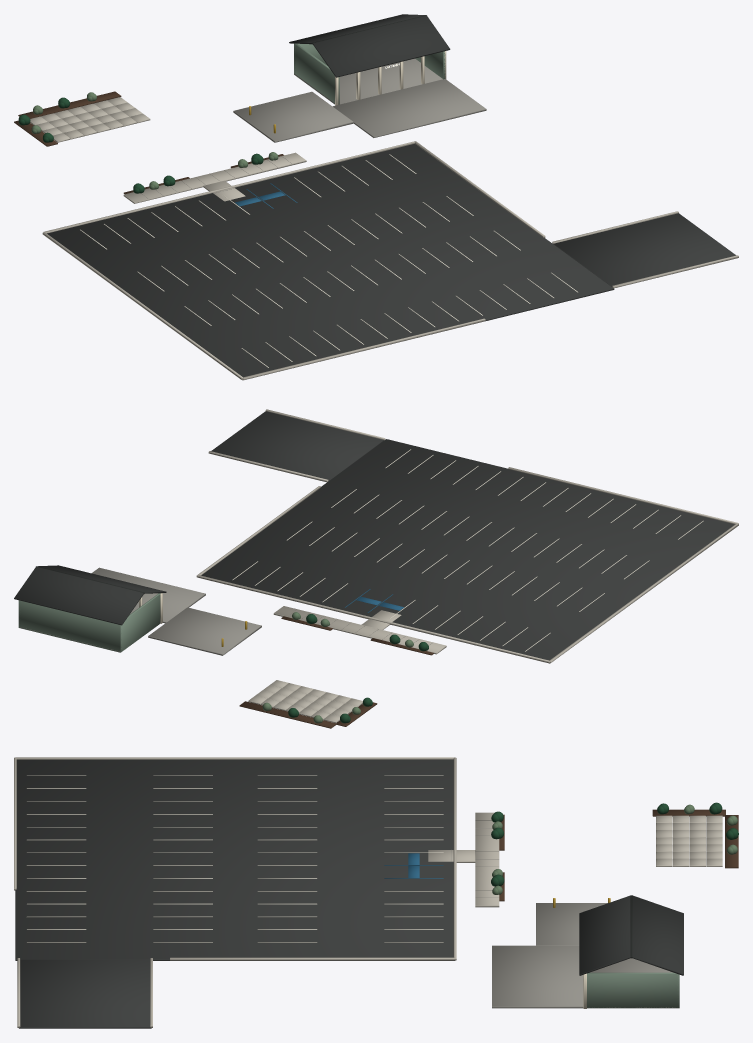
The model's file is modern_public_clubhouse_site_v1.glb.
3 views of the same model, one above another, from view 1: azimuth 30°, elevation 25°; view 2: azimuth 150°, elevation 25°; view 3: azimuth 270°, elevation 25° (orthographic). The views are drawn at different scales.
Parts seen in each view (by area): view 1: MESH_Parking_Asphalt, MESH_Parking_EntranceDrive_Asphalt, MESH_CartBarn_ApproachConcrete, MESH_CartBarn_RoofFront, MESH_Loading_Apron, MESH_CartBarn_Slab, MESH_Sidewalk_Frontage_Slab, MESH_CartBarn_W_Wall, MESH_Parking_CurbNorth, MESH_Parking_CurbWest, MESH_Parking_CurbSouthWest, MESH_CartBarn_RoofBack; view 2: MESH_Parking_Asphalt, MESH_Parking_EntranceDrive_Asphalt, MESH_CartBarn_RoofBack, MESH_Loading_Apron, MESH_CartBarn_BackWall, MESH_CartBarn_ApproachConcrete, MESH_Sidewalk_Frontage_Slab, MESH_CartBarn_W_Wall, MESH_Parking_CurbNorth, MESH_Parking_CurbWest, MESH_CartBarn_RoofFront, MESH_Parking_CurbSouthWest (+1 smaller); view 3: MESH_Parking_Asphalt, MESH_Parking_EntranceDrive_Asphalt, MESH_CartBarn_ApproachConcrete, MESH_CartBarn_E_Wall, MESH_CartBarn_RoofBack, MESH_CartBarn_RoofFront, MESH_Loading_Apron, MESH_Sidewalk_Frontage_Slab, MESH_Parking_CurbWest, MESH_Parking_CurbEastNorth, MESH_Parking_CurbNorth, MESH_CartBarn_Slab (+2 smaller).
Part boxes in pixels (x1=…): MESH_Parking_Asphalt: x1=47, y1=144, x2=614, y2=380; MESH_Parking_EntranceDrive_Asphalt: x1=553, y1=213, x2=735, y2=286; MESH_CartBarn_ApproachConcrete: x1=333, y1=79, x2=486, y2=137; MESH_CartBarn_RoofFront: x1=313, y1=16, x2=450, y2=77; MESH_Loading_Apron: x1=233, y1=91, x2=353, y2=142; MESH_CartBarn_Slab: x1=294, y1=58, x2=442, y2=104; MESH_Sidewalk_Frontage_Slab: x1=123, y1=152, x2=306, y2=203; MESH_CartBarn_W_Wall: x1=294, y1=44, x2=339, y2=104; MESH_Parking_CurbNorth: x1=43, y1=141, x2=414, y2=233; MESH_Parking_CurbWest: x1=42, y1=232, x2=242, y2=379; MESH_Parking_CurbSouthWest: x1=242, y1=318, x2=485, y2=380; MESH_CartBarn_RoofBack: x1=289, y1=14, x2=425, y2=44; MESH_Parking_Asphalt: x1=201, y1=439, x2=734, y2=663; MESH_Parking_EntranceDrive_Asphalt: x1=211, y1=411, x2=383, y2=480; MESH_CartBarn_RoofBack: x1=14, y1=567, x2=143, y2=625; MESH_Loading_Apron: x1=148, y1=607, x2=261, y2=655; MESH_CartBarn_BackWall: x1=18, y1=600, x2=121, y2=652; MESH_CartBarn_ApproachConcrete: x1=92, y1=567, x2=205, y2=623; MESH_Sidewalk_Frontage_Slab: x1=273, y1=606, x2=446, y2=654; MESH_CartBarn_W_Wall: x1=120, y1=593, x2=160, y2=652; MESH_Parking_CurbNorth: x1=197, y1=575, x2=549, y2=663; MESH_Parking_CurbWest: x1=549, y1=523, x2=738, y2=663; MESH_CartBarn_RoofFront: x1=38, y1=565, x2=166, y2=593; MESH_Parking_CurbSouthWest: x1=508, y1=467, x2=738, y2=524; MESH_Parking_Asphalt: x1=15, y1=759, x2=454, y2=960; MESH_Parking_EntranceDrive_Asphalt: x1=19, y1=959, x2=151, y2=1028; MESH_CartBarn_ApproachConcrete: x1=492, y1=945, x2=583, y2=1008; MESH_CartBarn_E_Wall: x1=587, y1=972, x2=679, y2=1008; MESH_CartBarn_RoofBack: x1=632, y1=895, x2=683, y2=975; MESH_CartBarn_RoofFront: x1=579, y1=895, x2=630, y2=975; MESH_Loading_Apron: x1=536, y1=903, x2=607, y2=945; MESH_Sidewalk_Frontage_Slab: x1=475, y1=812, x2=499, y2=907; MESH_Parking_CurbWest: x1=15, y1=757, x2=454, y2=759; MESH_Parking_CurbEastNorth: x1=170, y1=957, x2=456, y2=960; MESH_Parking_CurbNorth: x1=453, y1=757, x2=456, y2=959; MESH_CartBarn_Slab: x1=587, y1=958, x2=675, y2=1008.
Size of the model in its own units: 55.52 by 5.18 by 63.3.
